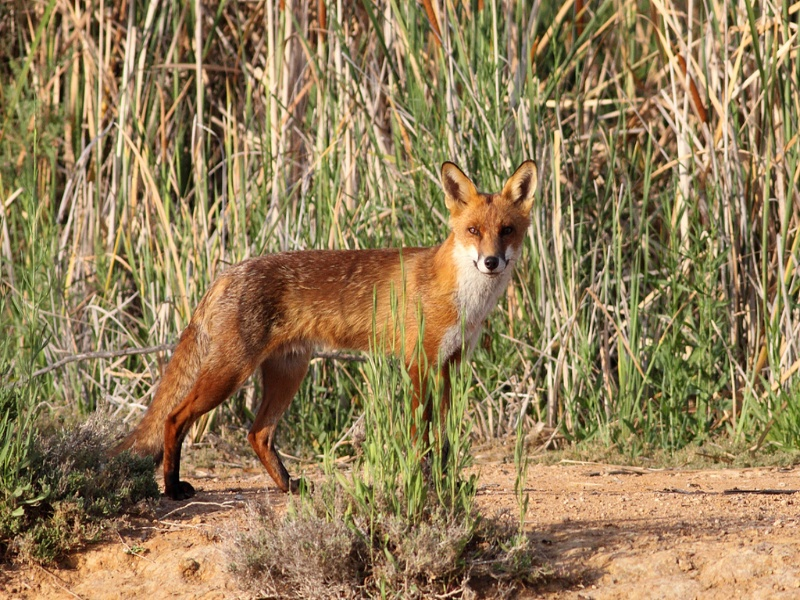fox: (121, 156, 543, 508)
